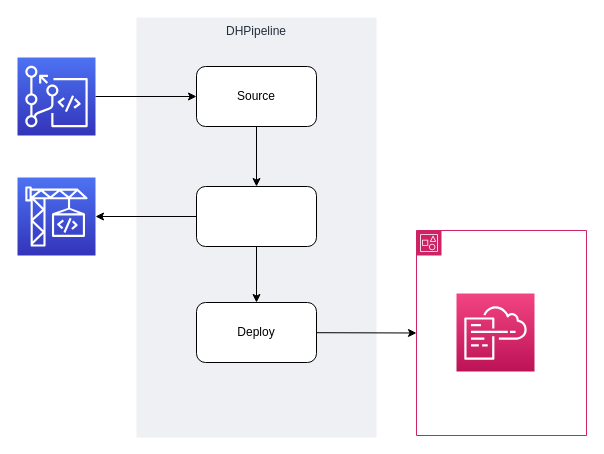
Image size: 604x454. Some labels were removed from this diagram. Each missing label, with the box of its shape:
AWS Account: (416, 230, 586, 436)
Build: (196, 186, 316, 246)
